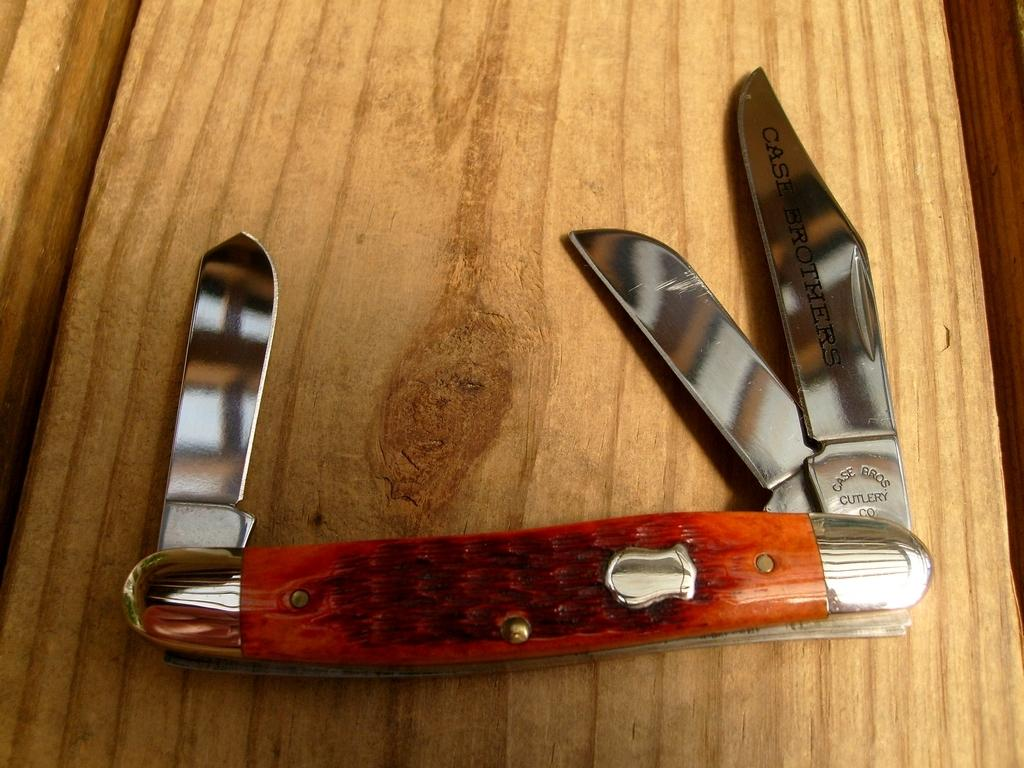Knife: (114, 62, 934, 689)
